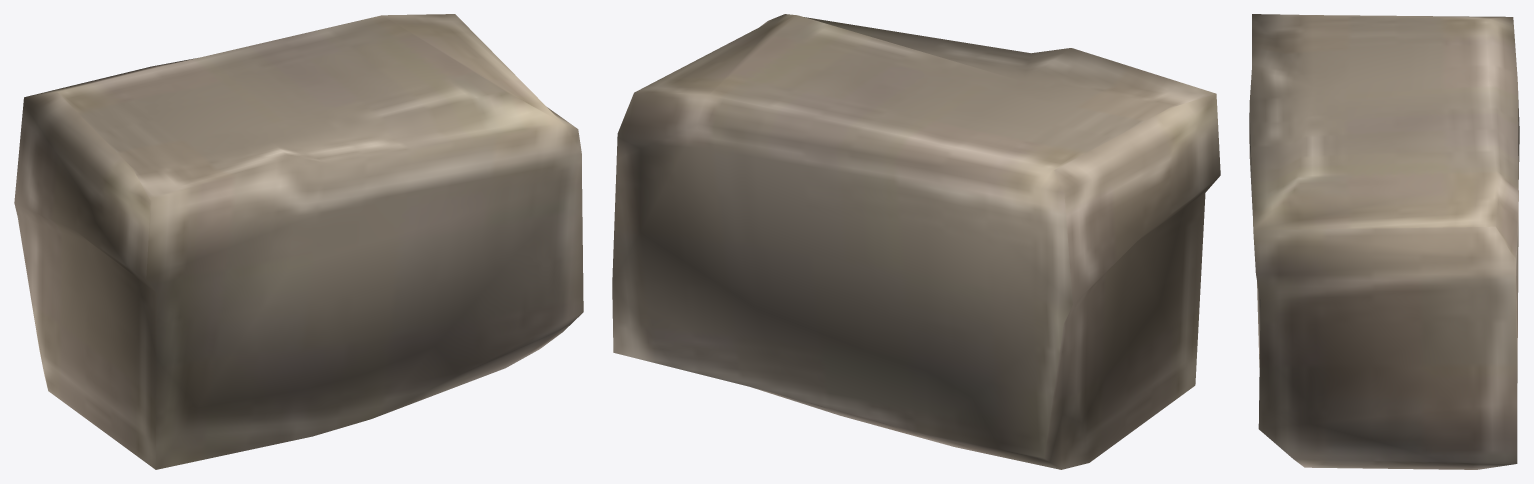
Rendered from prop-qm-propbrick2.glb.
3 views of the same model, side by side, from view 1: azimuth 30°, elevation 25°; view 2: azimuth 150°, elevation 25°; view 3: azimuth 270°, elevation 25° (orthographic). The views are drawn at different scales.
Parts seen in each view (by area): view 1: Cube_017_Retopology_001; view 2: Cube_017_Retopology_001; view 3: Cube_017_Retopology_001.
Part boxes in pixels (x1,y1,x2,y2): Cube_017_Retopology_001: (14,14,583,469); Cube_017_Retopology_001: (612,14,1220,469); Cube_017_Retopology_001: (1249,14,1519,469).
Bounding box in the file's own units: 0.3954 × 0.2449 × 0.2169.
1 material, 1 textured.
